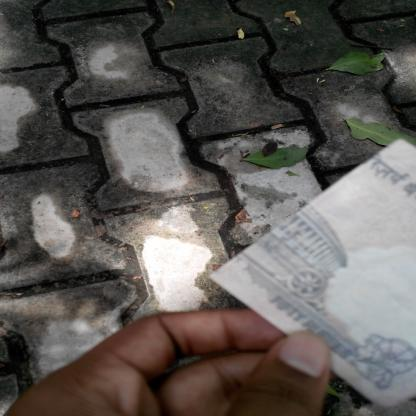Old50Back: (212, 138, 416, 411)
